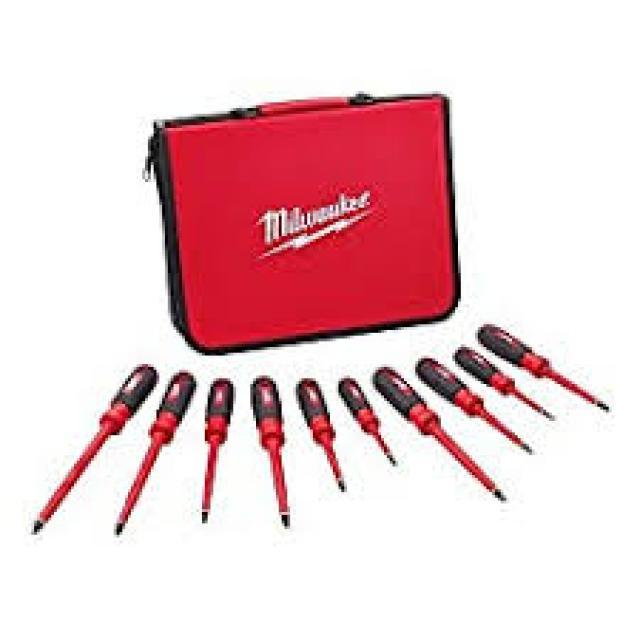screwdriver: (15, 356, 164, 538), (371, 362, 511, 504), (105, 366, 202, 540), (474, 318, 622, 432), (414, 354, 545, 460), (448, 337, 559, 425), (246, 374, 297, 531), (290, 372, 350, 500), (196, 376, 239, 526), (336, 374, 402, 471)
